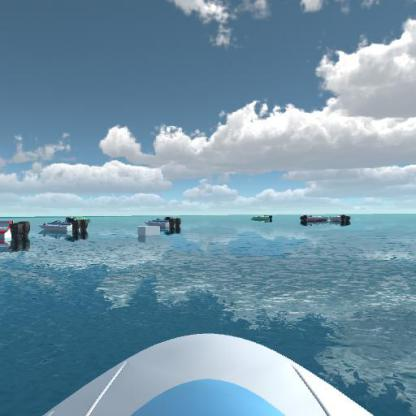usv0: (64, 211, 95, 226), (248, 212, 274, 224)
usv1: (37, 216, 89, 239), (140, 212, 184, 235), (329, 210, 355, 228)
usv3: (0, 213, 36, 251), (296, 211, 330, 227)
